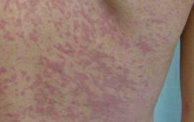SJS-TEN: (0, 0, 194, 122), (180, 96, 194, 115)
